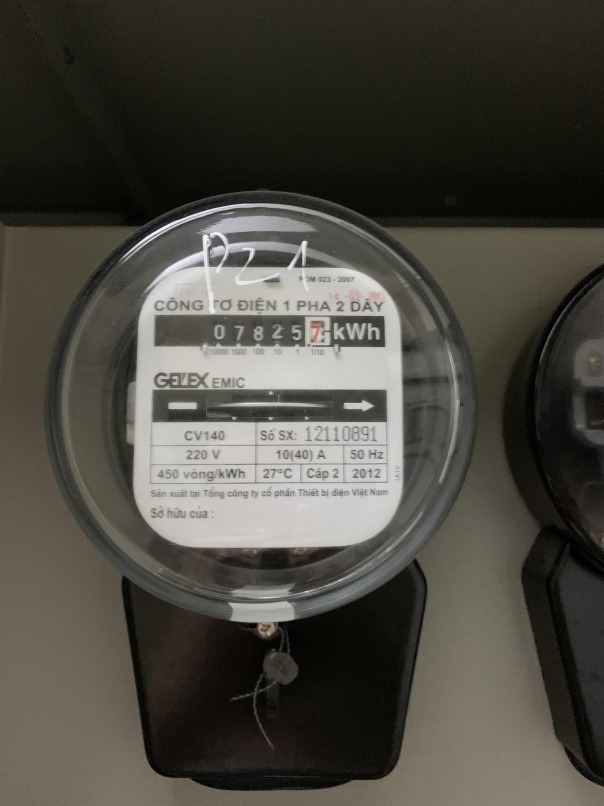counter: (154, 312, 388, 348)
electricity_meter: (47, 198, 475, 622)
